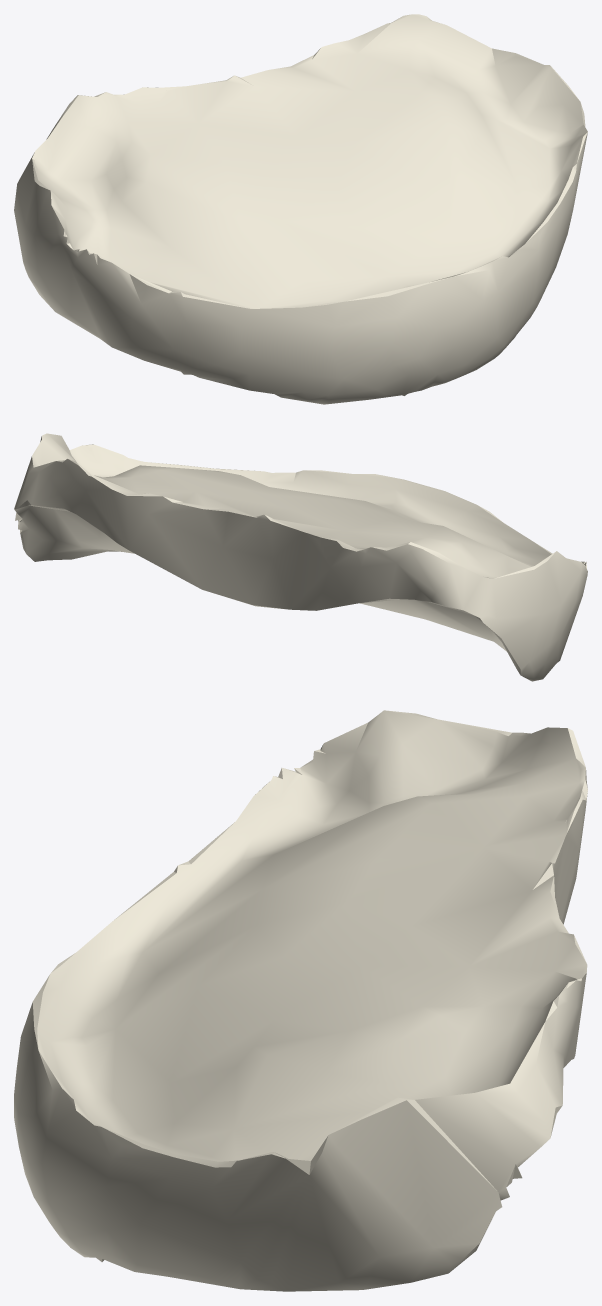
Rendered from fma10458_fj3222.glb.
The picture shows the model from 3 angles, top to bottom: view 1: azimuth 30°, elevation 25°; view 2: azimuth 150°, elevation 25°; view 3: azimuth 270°, elevation 25°; orthographic projection. The views are drawn at different scales.
Visible parts, largest first — view 1: FMA10458_FJ3222; view 2: FMA10458_FJ3222; view 3: FMA10458_FJ3222.
Part boxes in pixels (bbox=[...]): FMA10458_FJ3222: bbox=[14, 14, 587, 404]; FMA10458_FJ3222: bbox=[14, 433, 587, 681]; FMA10458_FJ3222: bbox=[14, 710, 587, 1291].
Bounding box in the file's own units: 0.0326 × 0.0128 × 0.0199.
